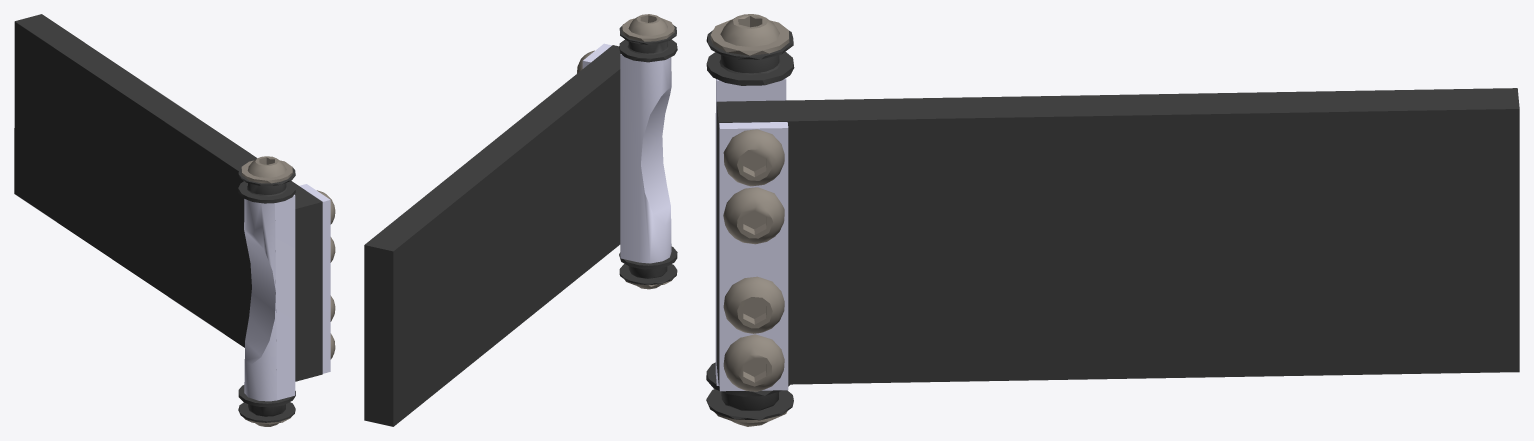
The model's file is right-knee-spring.obj.
3 renders of one model, left to right at view 1: azimuth 30°, elevation 25°; view 2: azimuth 150°, elevation 25°; view 3: azimuth 270°, elevation 25°, orthographic. The views are drawn at different scales.
Parts seen in each view (by area): view 1: right_knee_spring; view 2: right_knee_spring; view 3: right_knee_spring.
Part boxes in pixels (<box>): right_knee_spring: <box>14,14,335,426</box>; right_knee_spring: <box>364,14,677,426</box>; right_knee_spring: <box>706,14,1519,426</box>.
Bounding box in the file's own units: 0.027 × 0.0756 × 0.14.
1 material, 1 textured.
